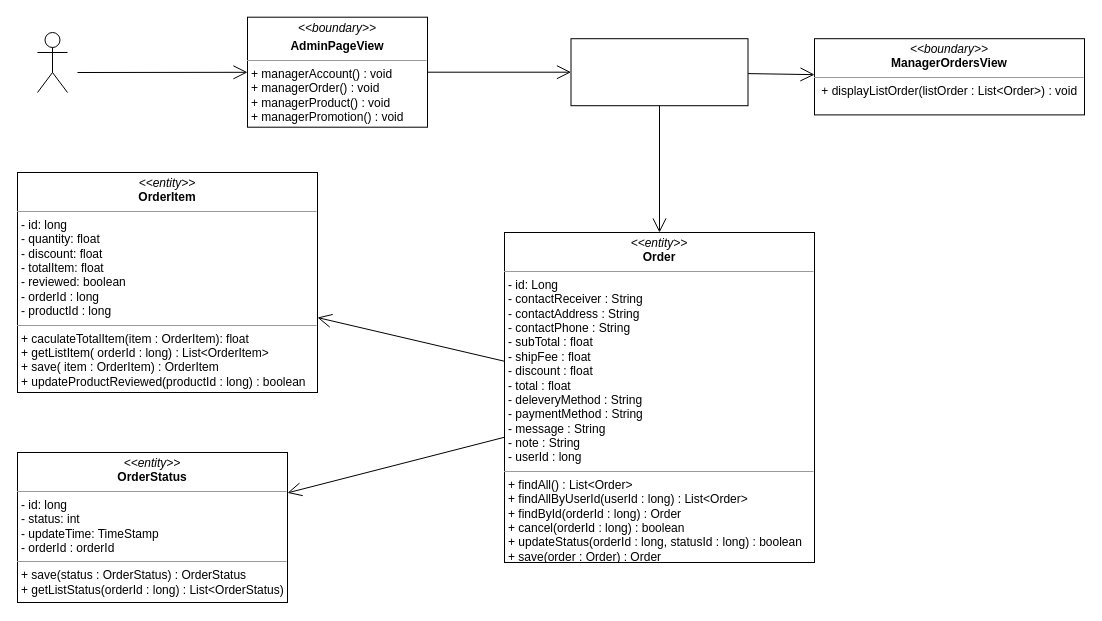
This 1102x621 diagram has some shape labels left out. The box of each missing label's shape, as (x1, y1, x2, y2) in pixels:
<<control>> OrderController + getAllOrder() : List<Order>: (570, 38, 748, 106)
Quản trị viên: (36, 32, 68, 92)
